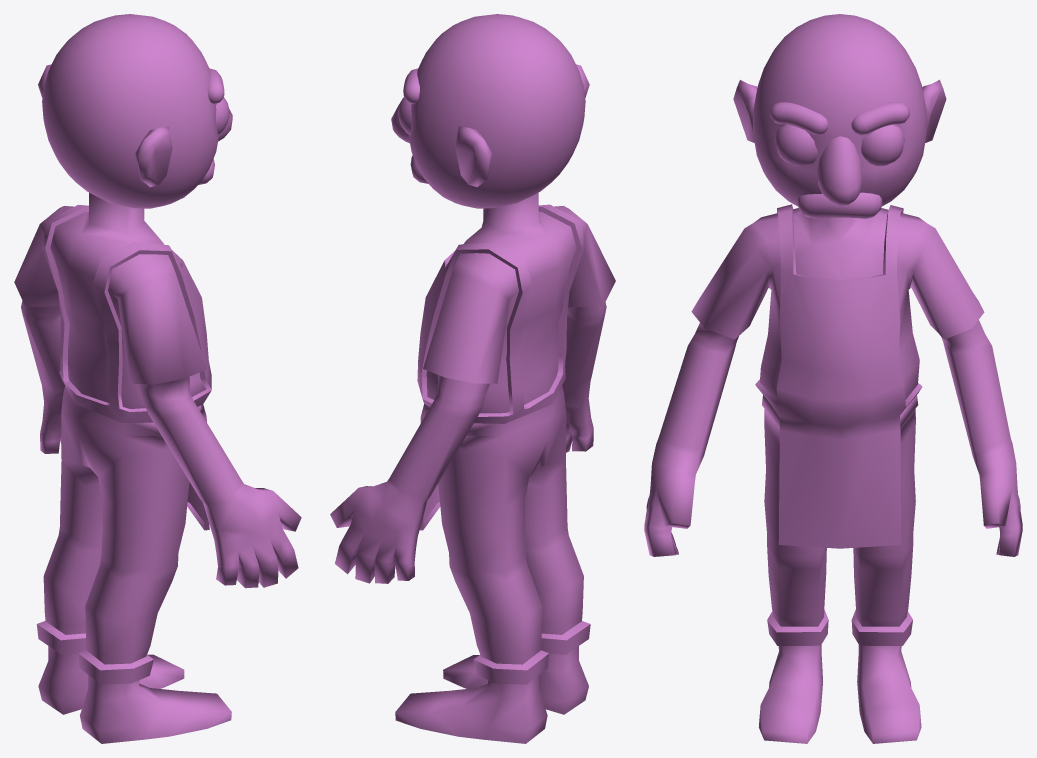
Rendered from MSH_Bartender.FBX.
3 views of the same model, side by side, from view 1: azimuth 30°, elevation 25°; view 2: azimuth 150°, elevation 25°; view 3: azimuth 270°, elevation 25° (orthographic).
Visible parts, largest first — view 1: MSH_Bartender; view 2: MSH_Bartender; view 3: MSH_Bartender.
Boxes of the visible parts, box(x1,y1,x2,y2) form: MSH_Bartender: box(14, 14, 301, 743); MSH_Bartender: box(330, 14, 615, 743); MSH_Bartender: box(644, 14, 1022, 743).
Size of the model in its own units: 54.4 by 201 by 100.
